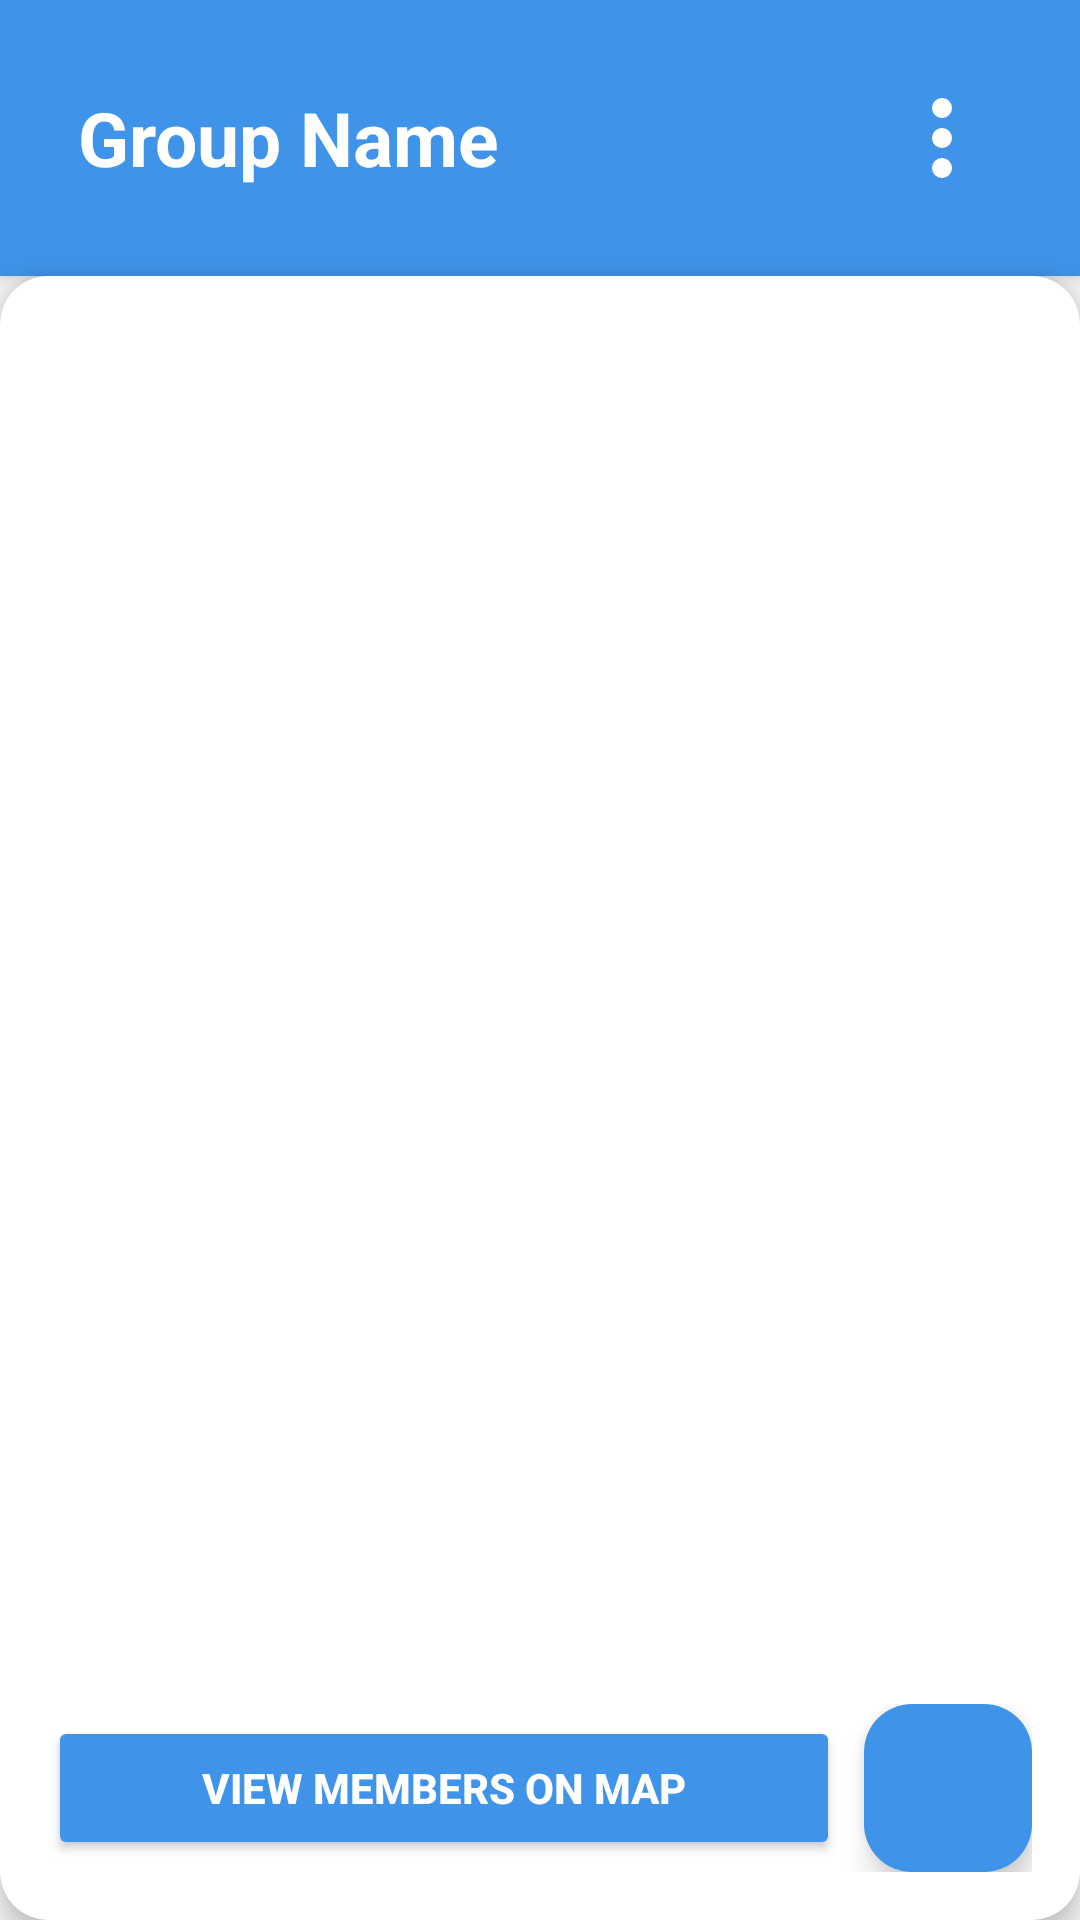

Icons on this 1080×1920 Android screen, each with the point to tap as (x,y):
move vert: (942,138)
